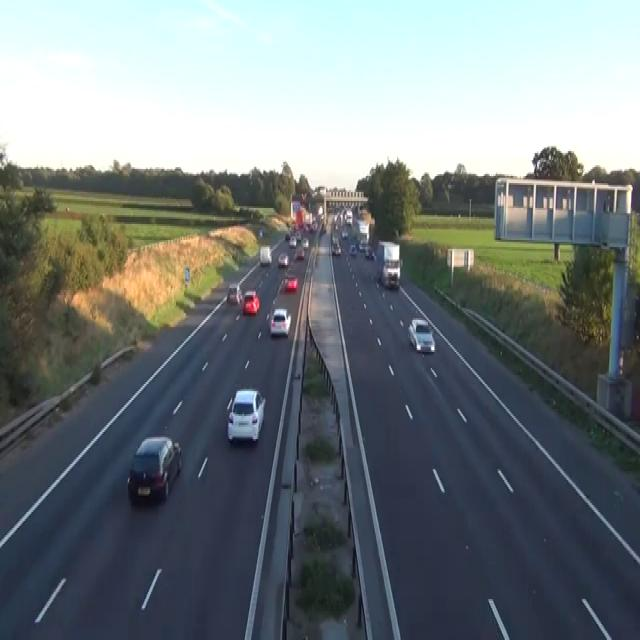Car: (127, 434, 182, 505), (227, 388, 266, 442), (407, 318, 435, 352), (270, 308, 291, 336), (381, 260, 400, 288), (242, 290, 259, 314), (226, 283, 242, 304), (283, 272, 298, 292), (277, 252, 289, 266), (293, 247, 304, 260), (365, 246, 375, 260), (331, 242, 341, 256), (359, 238, 368, 251), (349, 244, 357, 256), (309, 222, 317, 231), (341, 228, 348, 238), (289, 237, 296, 247), (302, 237, 308, 247), (321, 222, 326, 233), (295, 231, 301, 240), (285, 231, 290, 240), (259, 228, 263, 236)
Truck: (376, 240, 401, 290), (356, 219, 369, 249), (259, 245, 272, 265)
